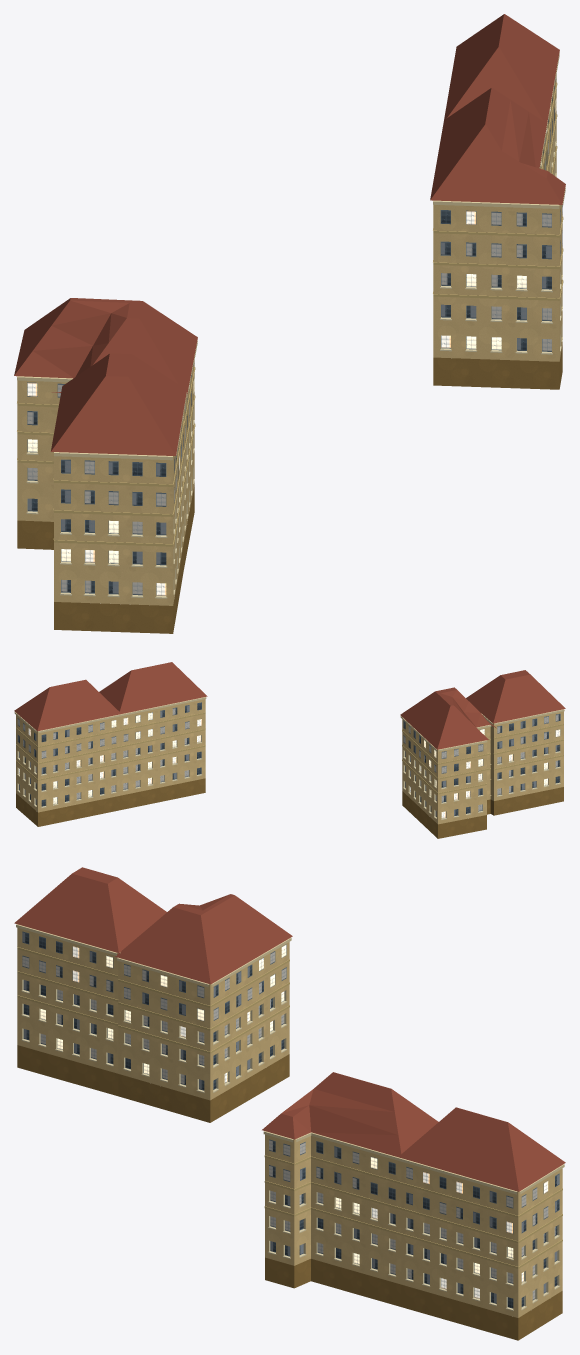
Rendered from z3R2_eris_n.glb.
The picture shows the model from 3 angles, top to bottom: view 1: azimuth 30°, elevation 25°; view 2: azimuth 150°, elevation 25°; view 3: azimuth 270°, elevation 25°; orthographic projection. The views are drawn at different scales.
Parts seen in each view (by area): view 1: z3R2_eris_n; view 2: z3R2_eris_n; view 3: z3R2_eris_n.
Boxes of the visible parts, left/top/right/bottom form: z3R2_eris_n: left=14, top=14, right=565, bottom=633; z3R2_eris_n: left=14, top=662, right=565, bottom=838; z3R2_eris_n: left=14, top=867, right=565, bottom=1340.
Bounding box in the file's own units: 88.3 × 25.98 × 66.54.
3 materials, 3 textured.
